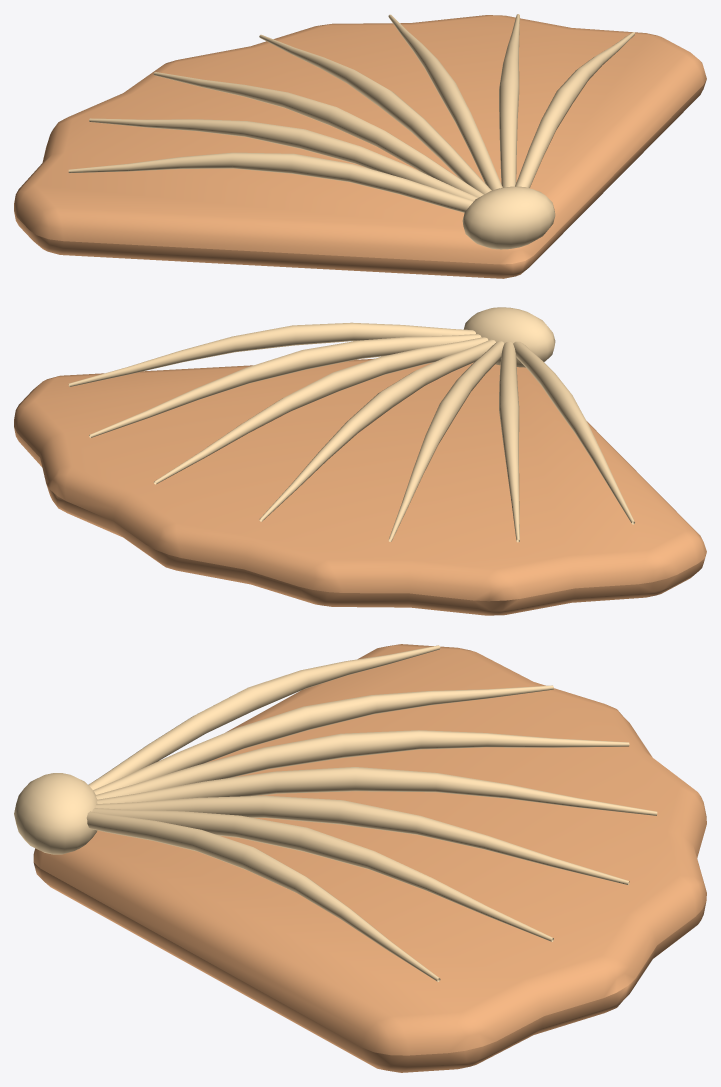
File: shell.glb
3 views of the same model, one above another, from view 1: azimuth 30°, elevation 25°; view 2: azimuth 150°, elevation 25°; view 3: azimuth 270°, elevation 25° (orthographic). The views are drawn at different scales.
Parts seen in each view (by area): view 1: shell_textured_mesh; view 2: shell_textured_mesh; view 3: shell_textured_mesh.
Boxes of the visible parts, bbox=[...] form: shell_textured_mesh: bbox=[14, 14, 706, 278]; shell_textured_mesh: bbox=[14, 307, 706, 615]; shell_textured_mesh: bbox=[14, 644, 706, 1072].
Bounding box in the file's own units: 3.41 × 0.4728 × 2.53.
1 material, 1 textured.
